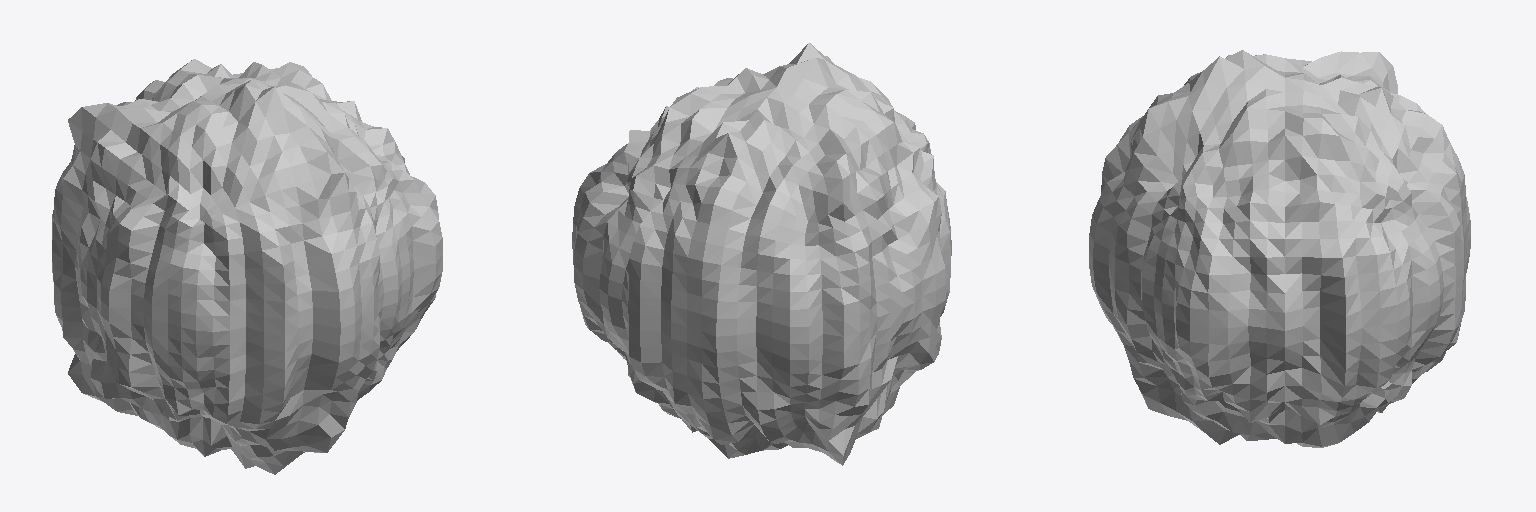
Rendered from asteroid168.obj.
The picture shows the model from 3 angles: view 1: azimuth 30°, elevation 25°; view 2: azimuth 150°, elevation 25°; view 3: azimuth 270°, elevation 25°; orthographic projection.
Visible parts, largest first — view 1: Cube_Cube.002; view 2: Cube_Cube.002; view 3: Cube_Cube.002.
Boxes of the visible parts, x1=… form: Cube_Cube.002: x1=52, y1=59, x2=442, y2=474; Cube_Cube.002: x1=572, y1=43, x2=951, y2=465; Cube_Cube.002: x1=1089, y1=50, x2=1470, y2=447.
Size of the model in its own units: 1.8 by 2.05 by 1.83.